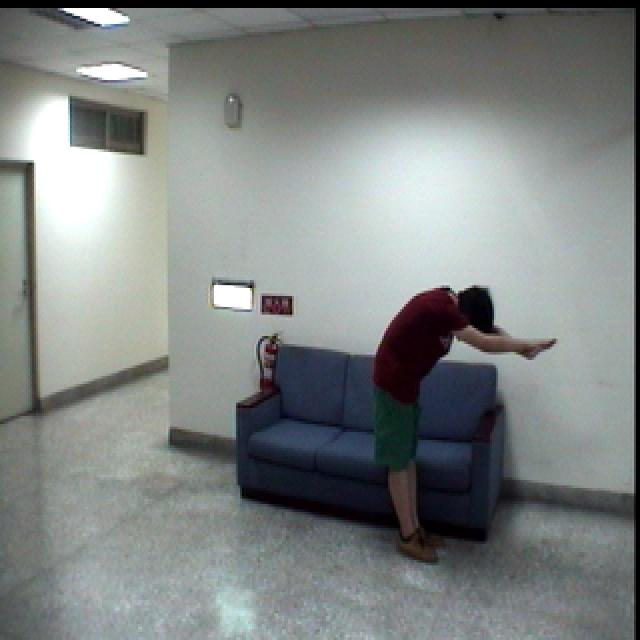bend: (366, 272, 569, 570)
